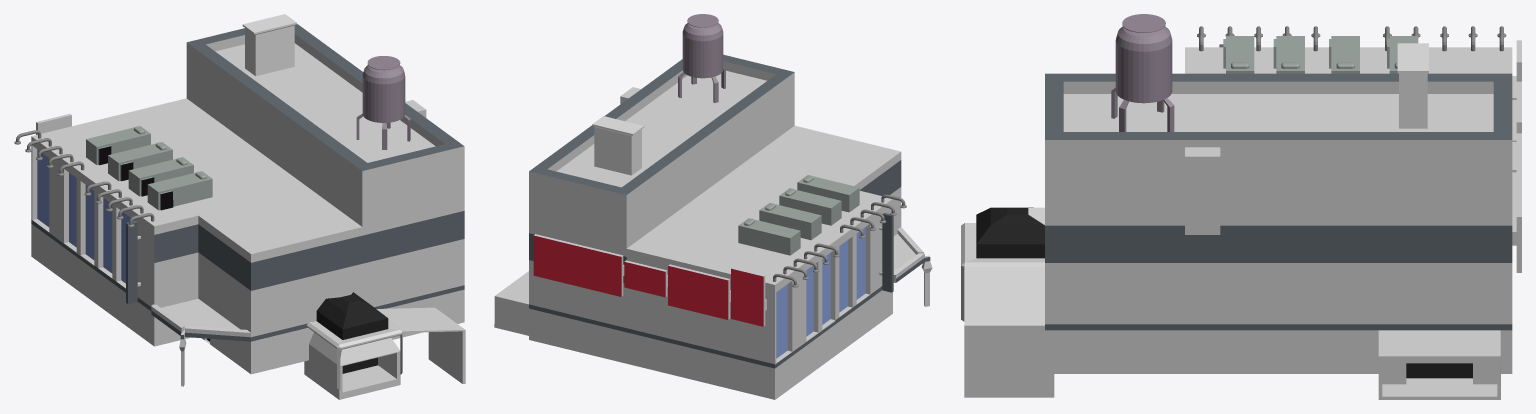
File: house.fbx
The picture shows the model from 3 angles, left to right: view 1: azimuth 30°, elevation 25°; view 2: azimuth 150°, elevation 25°; view 3: azimuth 270°, elevation 25°; orthographic projection. The views are drawn at different scales.
Visible parts, largest first — view 1: Cube, Куб, Цилиндр, Куб.004, Цилиндр.006; view 2: Cube, Куб, Цилиндр, Куб.004, Цилиндр.006; view 3: Cube, Цилиндр, Куб, Куб.004, Цилиндр.006.
Boxes of the visible parts, bbox=[...] form: Cube: bbox=[31, 24, 465, 399]; Куб: bbox=[86, 126, 212, 210]; Цилиндр: bbox=[356, 56, 410, 149]; Куб.004: bbox=[242, 14, 296, 76]; Цилиндр.006: bbox=[14, 130, 154, 227]; Cube: bbox=[494, 54, 932, 399]; Куб: bbox=[738, 175, 859, 255]; Цилиндр: bbox=[678, 14, 725, 102]; Куб.004: bbox=[592, 116, 644, 175]; Цилиндр.006: bbox=[773, 194, 906, 287]; Cube: bbox=[961, 40, 1521, 399]; Цилиндр: bbox=[1111, 14, 1174, 131]; Куб: bbox=[1223, 36, 1418, 73]; Куб.004: bbox=[1397, 43, 1428, 128]; Цилиндр.006: bbox=[1197, 26, 1506, 51].
Bounding box in the file's own units: 3407 × 2818 × 3920.
